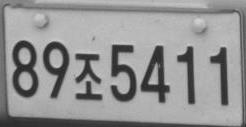1: (207, 46, 236, 106), (174, 45, 203, 104)
4: (140, 44, 170, 103)
5: (109, 43, 137, 102)
8: (10, 39, 38, 98)
9: (42, 40, 70, 98)
조: (74, 52, 103, 101)
